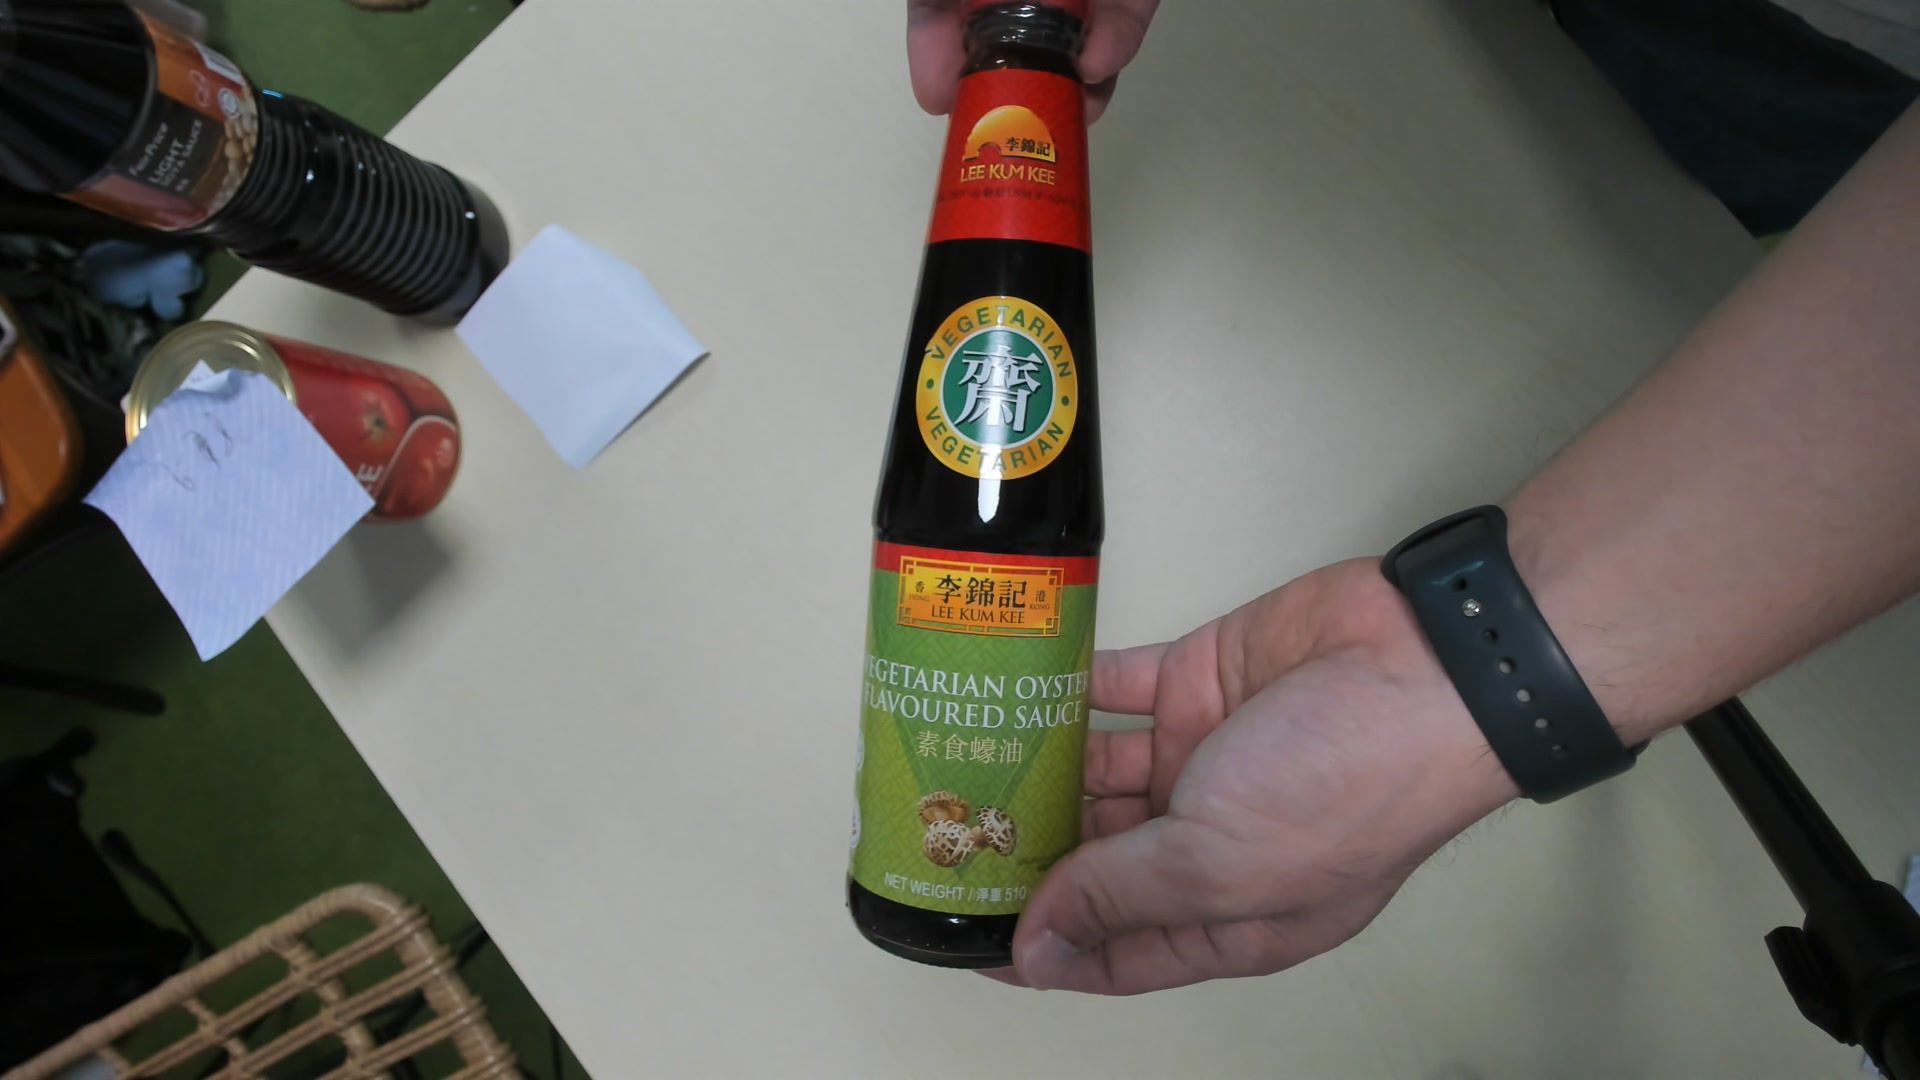OtherSauceDressingSoupbasePaste_500-599g_Halal_Healthy: (858, 1, 1108, 982)
